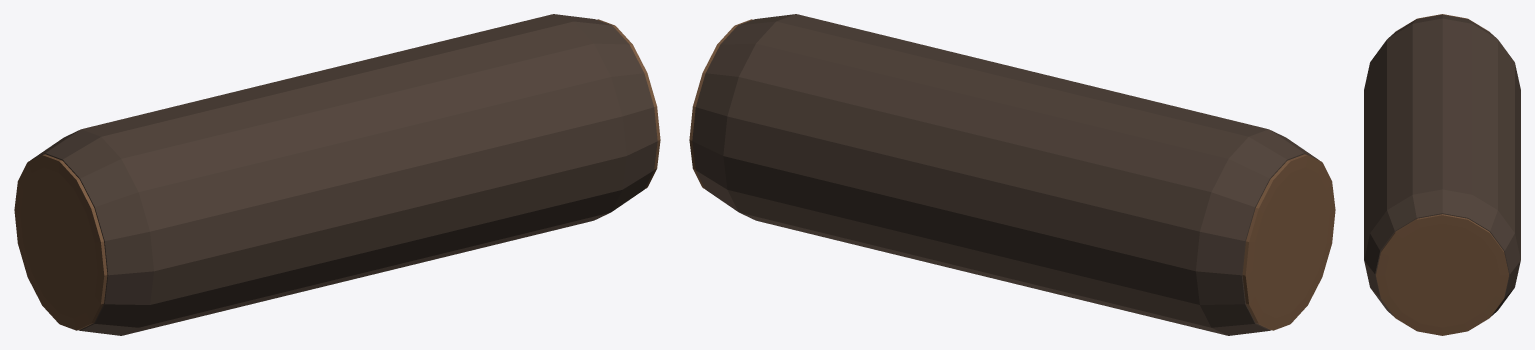
File: horror_log.obj
The picture shows the model from 3 angles, left to right: view 1: azimuth 30°, elevation 25°; view 2: azimuth 150°, elevation 25°; view 3: azimuth 270°, elevation 25°; orthographic projection. The views are drawn at different scales.
Parts seen in each view (by area): view 1: Bark, End-1.51, End1.51; view 2: Bark, End-1.51, End1.51; view 3: Bark, End1.51.
Boxes of the visible parts, left/top/right/bottom form: Bark: left=30, top=14, right=657, bottom=335; End-1.51: left=14, top=154, right=107, bottom=330; End1.51: left=597, top=19, right=660, bottom=188; Bark: left=692, top=14, right=1319, bottom=335; End-1.51: left=1242, top=154, right=1335, bottom=330; End1.51: left=689, top=19, right=752, bottom=188; Bark: left=1364, top=14, right=1520, bottom=316; End1.51: left=1376, top=214, right=1508, bottom=335.
Bounding box in the file's own units: 3.04 × 1 × 1.
